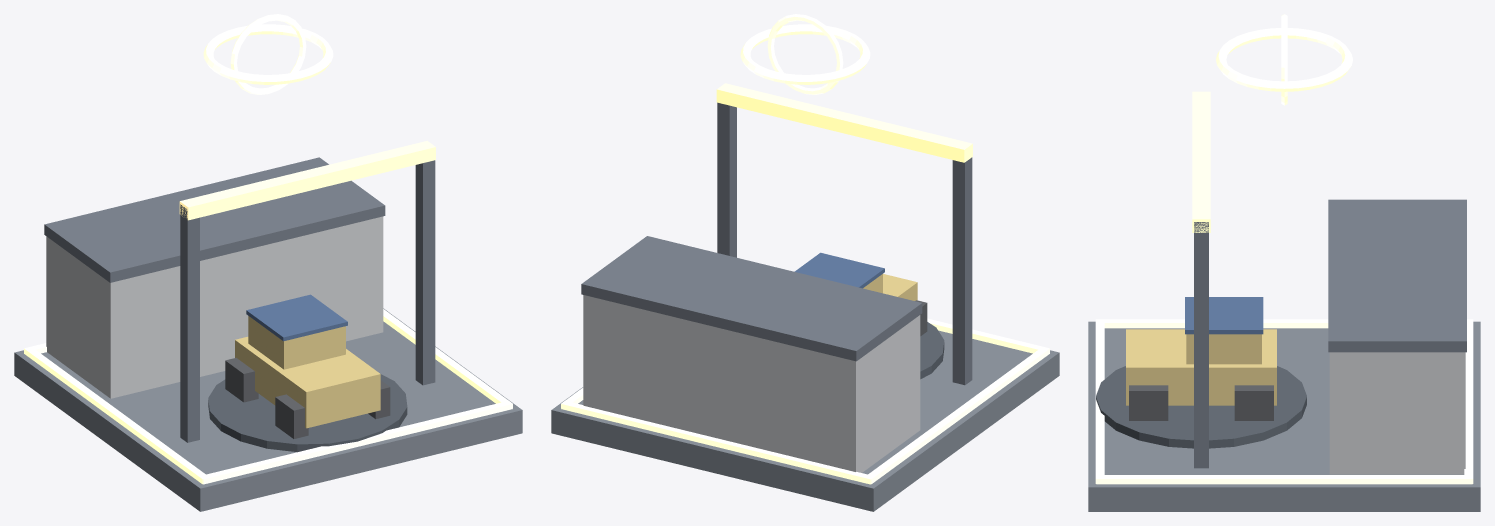
File: vehicle_assembly.glb
3 views of the same model, side by side, from view 1: azimuth 30°, elevation 25°; view 2: azimuth 150°, elevation 25°; view 3: azimuth 270°, elevation 25° (orthographic). The views are drawn at different scales.
Visible parts, largest first — view 1: Cube.005, Cube, Cube.006, Cube.010, Cylinder, Cube.009, Cube.008, Cube.007, Cube.001, Cube.011, Cube.012, Torus (+5 smaller); view 2: Cube.005, Cube.006, Cube, Cube.009, Cube.007, Cube.008, Cube.003, Torus, Cube.002, Cube.012, Torus.001, Cylinder (+2 smaller); view 3: Cube, Cube.006, Cube.005, Cylinder, Cube.010, Cube.004, Cube.008, Torus, Cube.009, Cube.012, Cube.011, Cube.002 (+5 smaller).
Boxes of the visible parts, <box> form: Cube.005: <box>46,216,383,398</box>; Cube: <box>14,308,522,511</box>; Cube.006: <box>44,157,385,282</box>; Cube.010: <box>235,336,380,428</box>; Cylinder: <box>208,374,407,452</box>; Cube.009: <box>179,140,435,220</box>; Cube.008: <box>415,160,435,385</box>; Cube.007: <box>180,204,199,442</box>; Cube.001: <box>199,401,512,484</box>; Cube.011: <box>248,316,345,369</box>; Cube.012: <box>246,294,347,341</box>; Torus: <box>203,24,333,84</box>; Cube.005: <box>583,295,920,472</box>; Cube.006: <box>581,236,922,361</box>; Cube: <box>551,330,1059,511</box>; Cube.009: <box>716,83,972,162</box>; Cube.007: <box>952,157,972,385</box>; Cube.008: <box>717,102,736,257</box>; Cube.003: <box>561,401,871,484</box>; Torus: <box>740,24,870,84</box>; Cube.002: <box>864,347,1049,484</box>; Cube.012: <box>794,252,884,288</box>; Torus.001: <box>767,14,843,94</box>; Cylinder: <box>920,322,944,379</box>; Cube: <box>1088,321,1480,511</box>; Cube.006: <box>1328,199,1466,352</box>; Cube.005: <box>1329,352,1465,474</box>; Cylinder: <box>1096,366,1306,448</box>; Cube.010: <box>1126,329,1276,405</box>; Cube.004: <box>1096,475,1472,484</box>; Cube.008: <box>1194,222,1208,468</box>; Torus: <box>1216,28,1352,91</box>; Cube.009: <box>1192,91,1210,232</box>; Cube.012: <box>1185,297,1263,334</box>; Cube.011: <box>1186,334,1261,364</box>; Cube.002: <box>1096,319,1472,328</box>.
Size of the model in its own units: 2.6 by 3.01 by 2.6.
